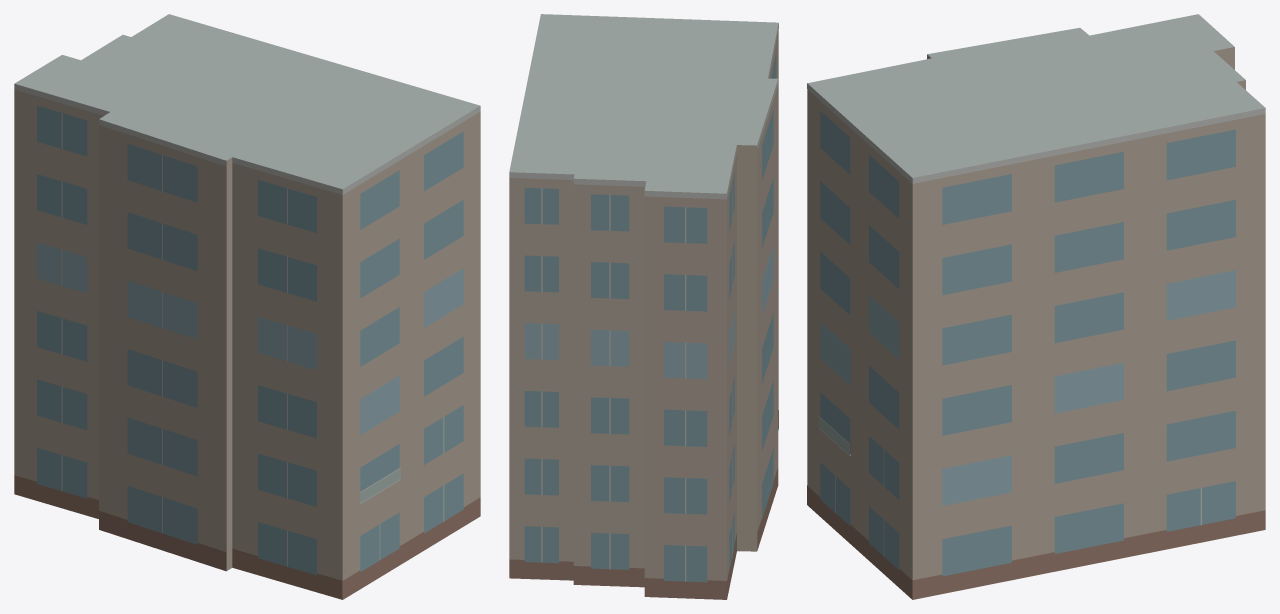
Rendered from survey-upis-32527019.glb.
3 views of the same model, side by side, from view 1: azimuth 30°, elevation 25°; view 2: azimuth 150°, elevation 25°; view 3: azimuth 270°, elevation 25° (orthographic). The views are drawn at different scales.
Parts seen in each view (by area): view 1: survey-upis-32527019.tmp; view 2: survey-upis-32527019.tmp; view 3: survey-upis-32527019.tmp.
Part boxes in pixels (x1,y1,x2,y2): survey-upis-32527019.tmp: (14, 14, 480, 599); survey-upis-32527019.tmp: (509, 14, 778, 599); survey-upis-32527019.tmp: (807, 14, 1265, 599).
Bounding box in the file's own units: 14.69 × 17.6 × 17.35.
